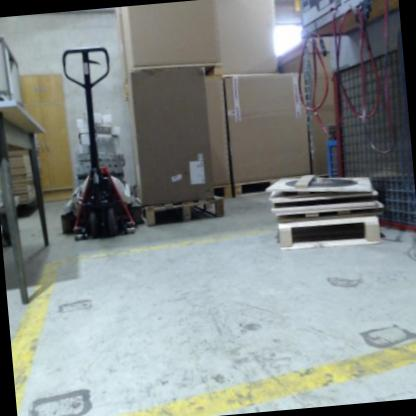pallet: (276, 212, 383, 255), (143, 194, 227, 228), (132, 62, 225, 84), (233, 178, 282, 198), (213, 183, 233, 201)
pallet_truck: (40, 37, 145, 240)
